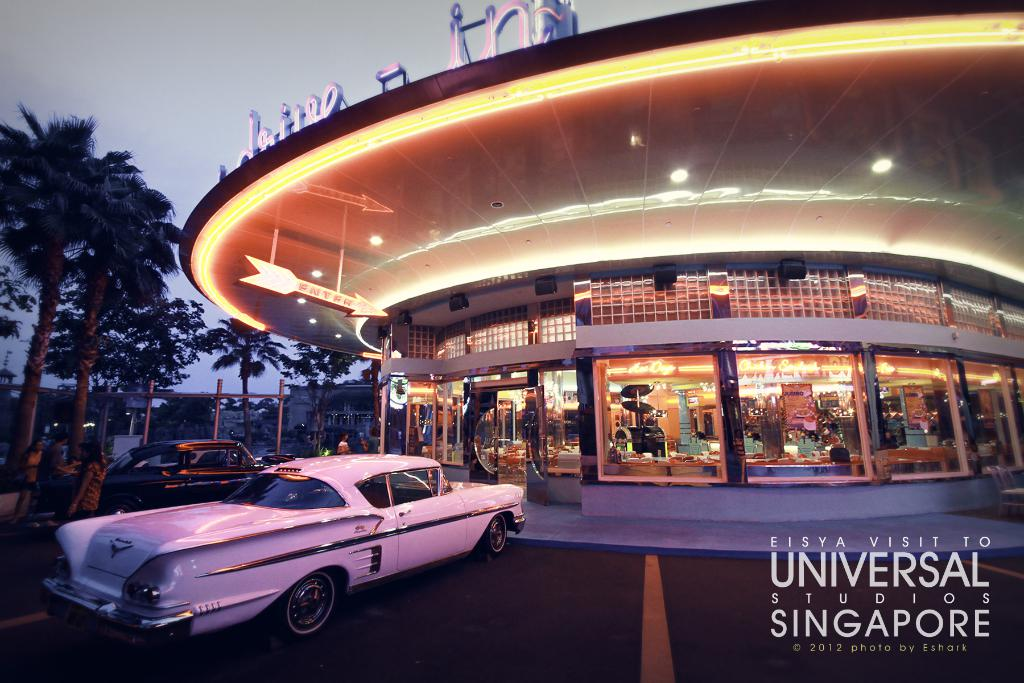Car: (40, 452, 526, 645), (29, 440, 296, 528)
